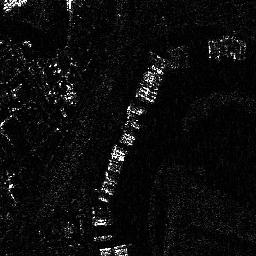ship: (94, 234, 113, 242)
